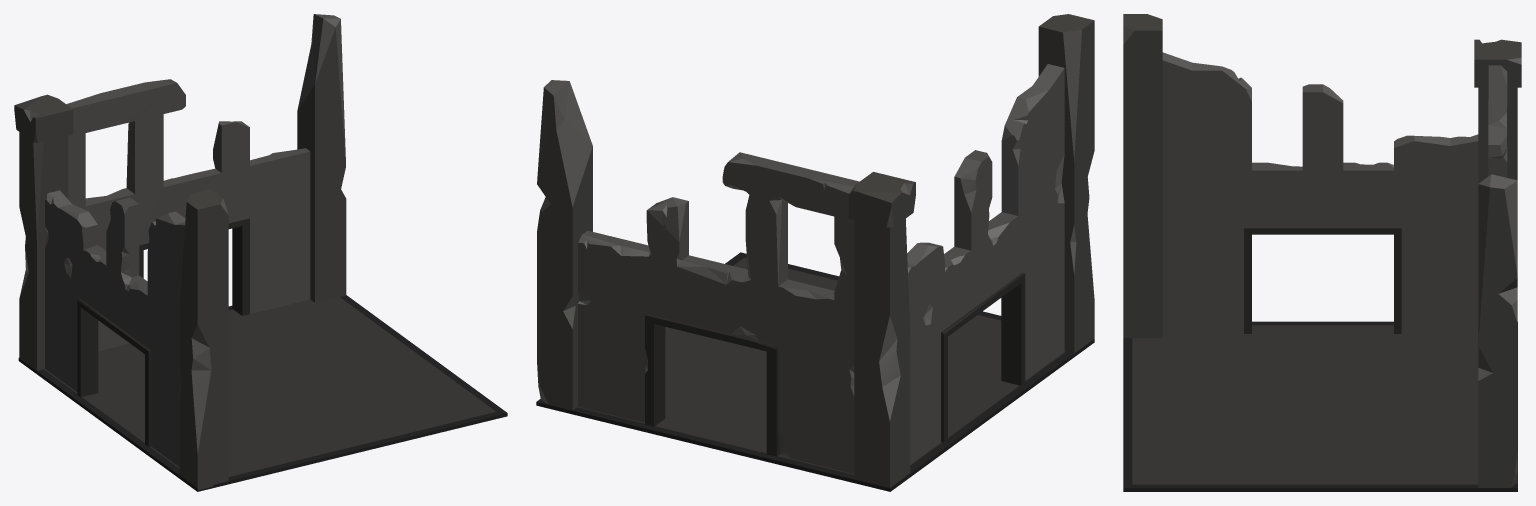
The model's file is 20C_BrokenHouse_01.fbx.
The picture shows the model from 3 angles, left to right: view 1: azimuth 30°, elevation 25°; view 2: azimuth 150°, elevation 25°; view 3: azimuth 270°, elevation 25°; orthographic projection. The views are drawn at different scales.
Visible parts, largest first — view 1: 20C_BrokenHouse_01; view 2: 20C_BrokenHouse_01; view 3: 20C_BrokenHouse_01.
Boxes of the visible parts, <box> form: 20C_BrokenHouse_01: <box>14,14,507,491</box>; 20C_BrokenHouse_01: <box>536,14,1094,491</box>; 20C_BrokenHouse_01: <box>1123,14,1521,491</box>.
Bounding box in the file's own units: 101 × 86.92 × 101.
